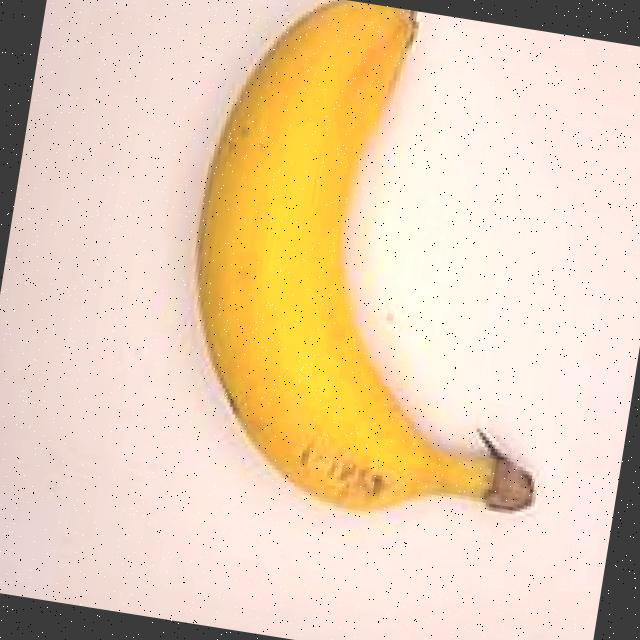Ripe: (88, 0, 638, 577)
